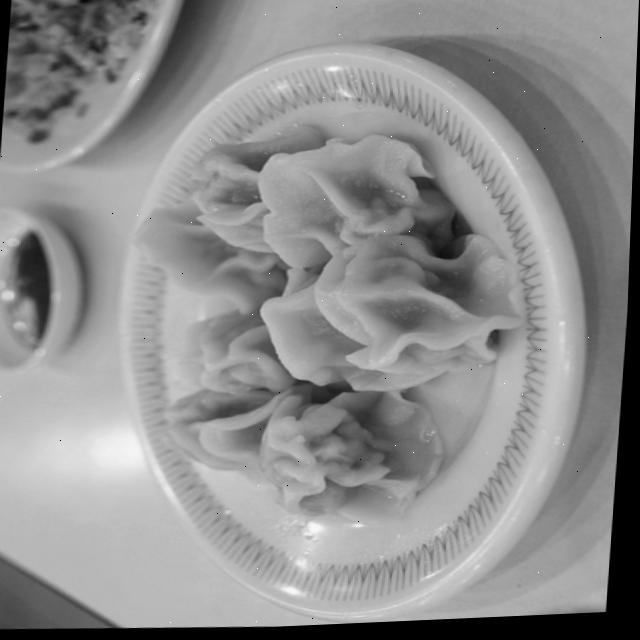带馅早点: (73, 11, 620, 637)
